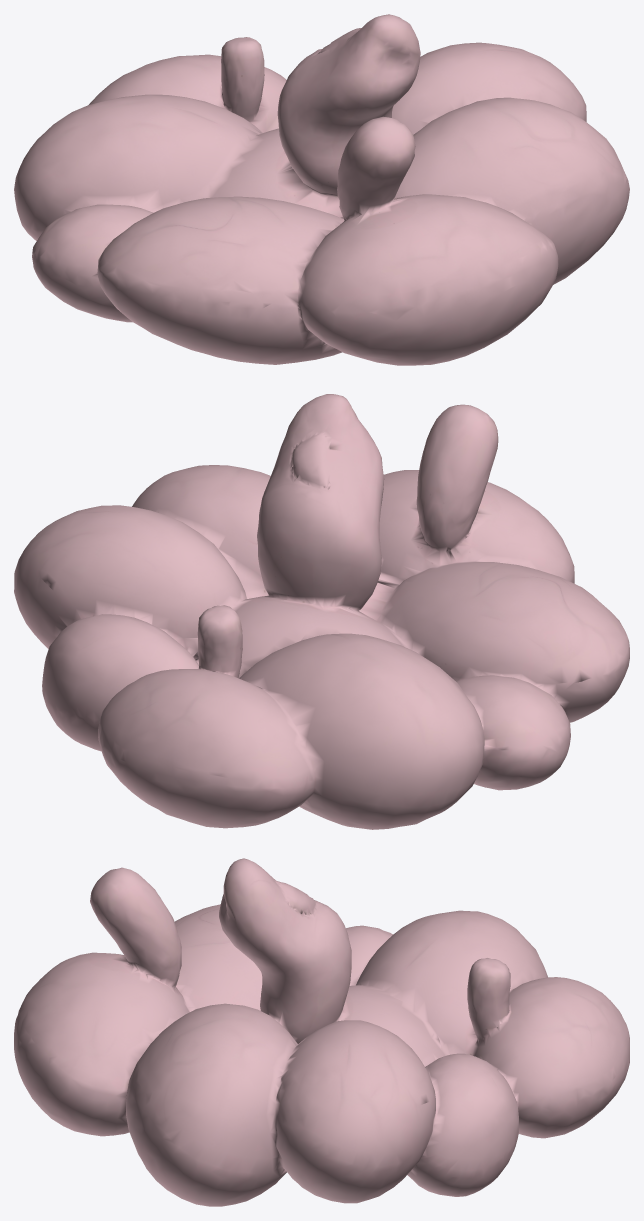
The model's file is cloud_fluffy.glb.
The picture shows the model from 3 angles, top to bottom: view 1: azimuth 30°, elevation 25°; view 2: azimuth 150°, elevation 25°; view 3: azimuth 270°, elevation 25°; orthographic projection. The views are drawn at different scales.
Visible parts, largest first — view 1: tripo_node_e1316d0c-da86-483b-8486-655b04c29add; view 2: tripo_node_e1316d0c-da86-483b-8486-655b04c29add; view 3: tripo_node_e1316d0c-da86-483b-8486-655b04c29add.
Boxes of the visible parts, <box> form: tripo_node_e1316d0c-da86-483b-8486-655b04c29add: <box>14,14,629,365</box>; tripo_node_e1316d0c-da86-483b-8486-655b04c29add: <box>14,394,629,829</box>; tripo_node_e1316d0c-da86-483b-8486-655b04c29add: <box>14,858,629,1206</box>.
Size of the model in its own units: 0.9668 by 0.5566 by 0.998.
1 material, 1 textured.
